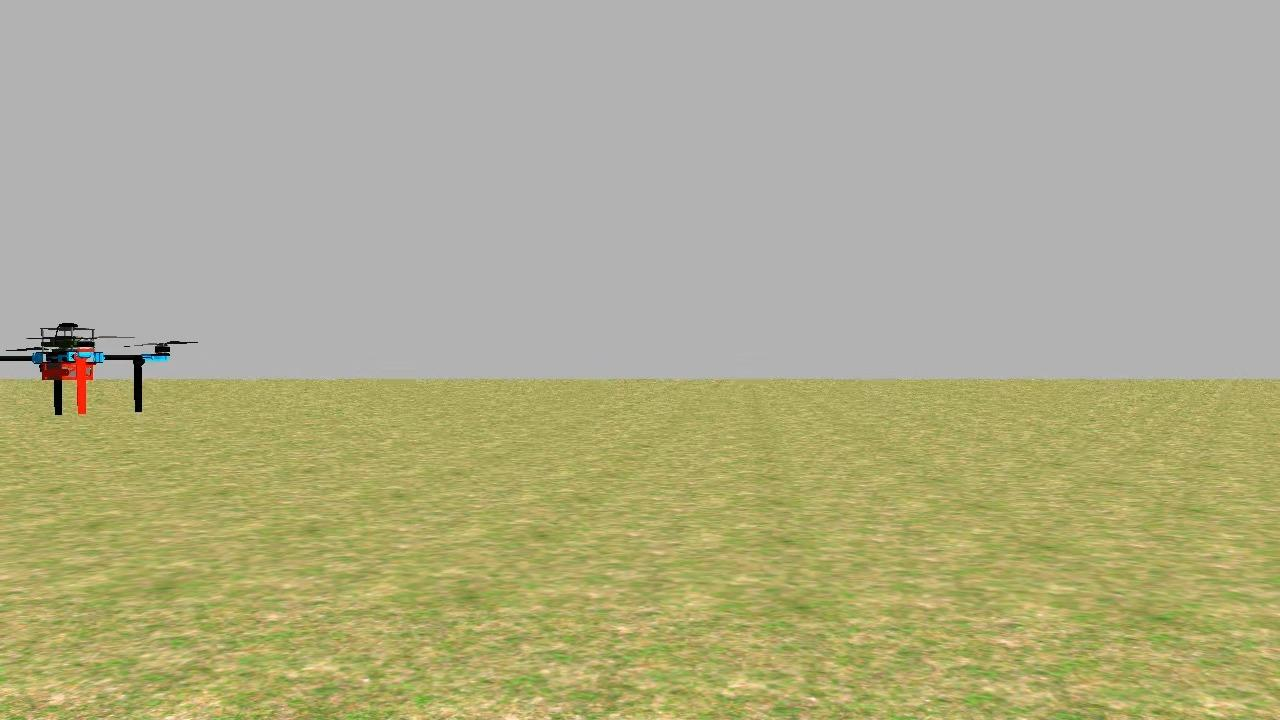UAV: (0, 308, 177, 423)
